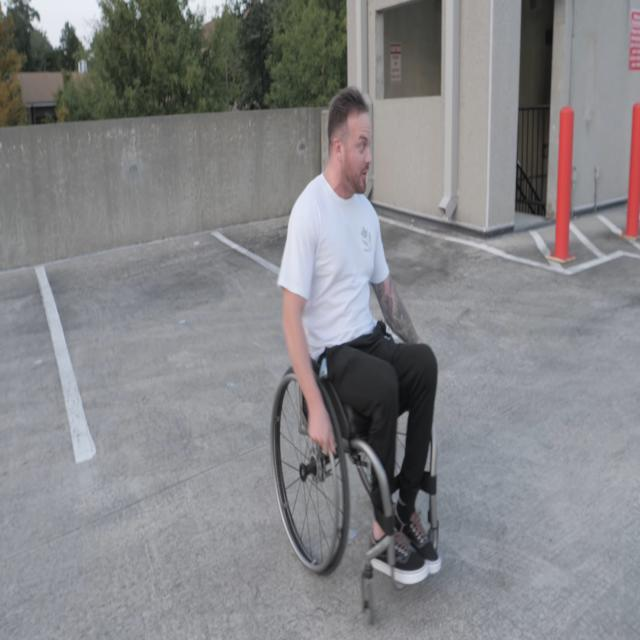wheelchairs: (268, 263, 440, 623)
